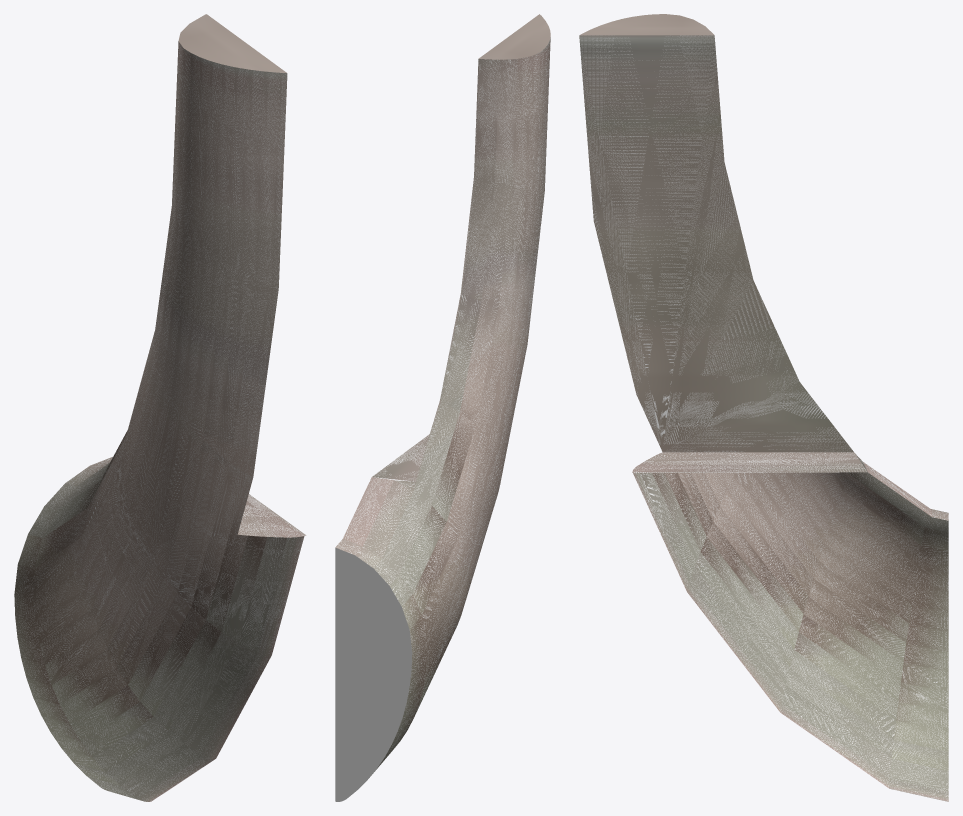
Rendered from original-70.obj.
3 renders of one model, left to right at view 1: azimuth 30°, elevation 25°; view 2: azimuth 150°, elevation 25°; view 3: azimuth 270°, elevation 25°, orthographic. The views are drawn at different scales.
Parts seen in each view (by area): view 1: Quarter_handle2/Quarter_handle12/mesh120/mesh120-geometry#mesh12; view 2: Quarter_handle2/Quarter_handle12/mesh120/mesh120-geometry#mesh12; view 3: Quarter_handle2/Quarter_handle12/mesh120/mesh120-geometry#mesh12.
Part boxes in pixels (x1,y1,x2,y2): Quarter_handle2/Quarter_handle12/mesh120/mesh120-geometry#mesh12: [14, 14, 306, 801]; Quarter_handle2/Quarter_handle12/mesh120/mesh120-geometry#mesh12: [335, 14, 550, 801]; Quarter_handle2/Quarter_handle12/mesh120/mesh120-geometry#mesh12: [579, 14, 948, 801].
Size of the model in its own units: 0.00922 by 0.0761 by 0.0341.
